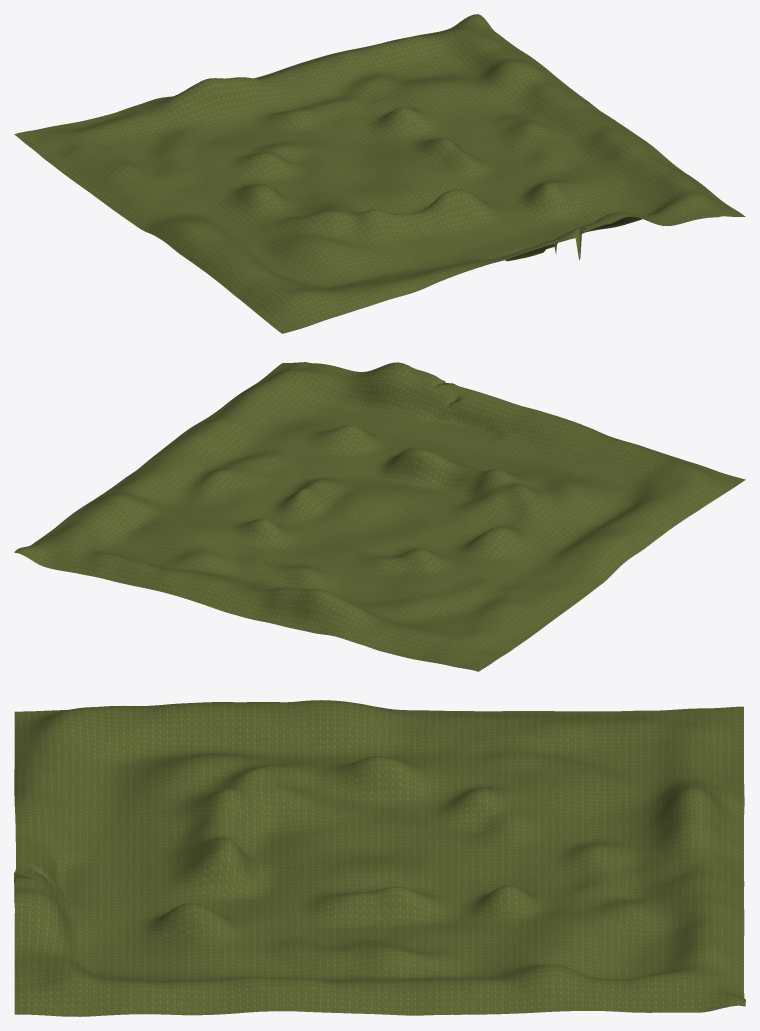
The model's file is Terrain.FBX.
3 renders of one model, top to bottom at view 1: azimuth 30°, elevation 25°; view 2: azimuth 150°, elevation 25°; view 3: azimuth 270°, elevation 25°, orthographic. The views are drawn at different scales.
Visible parts, largest first — view 1: Plane001; view 2: Plane001; view 3: Plane001.
Boxes of the visible parts, <box> form: Plane001: <box>14,14,745,333</box>; Plane001: <box>14,362,745,671</box>; Plane001: <box>14,700,745,1016</box>.
Size of the model in its own units: 31578 by 2123 by 31601.
1 material, 1 textured.
